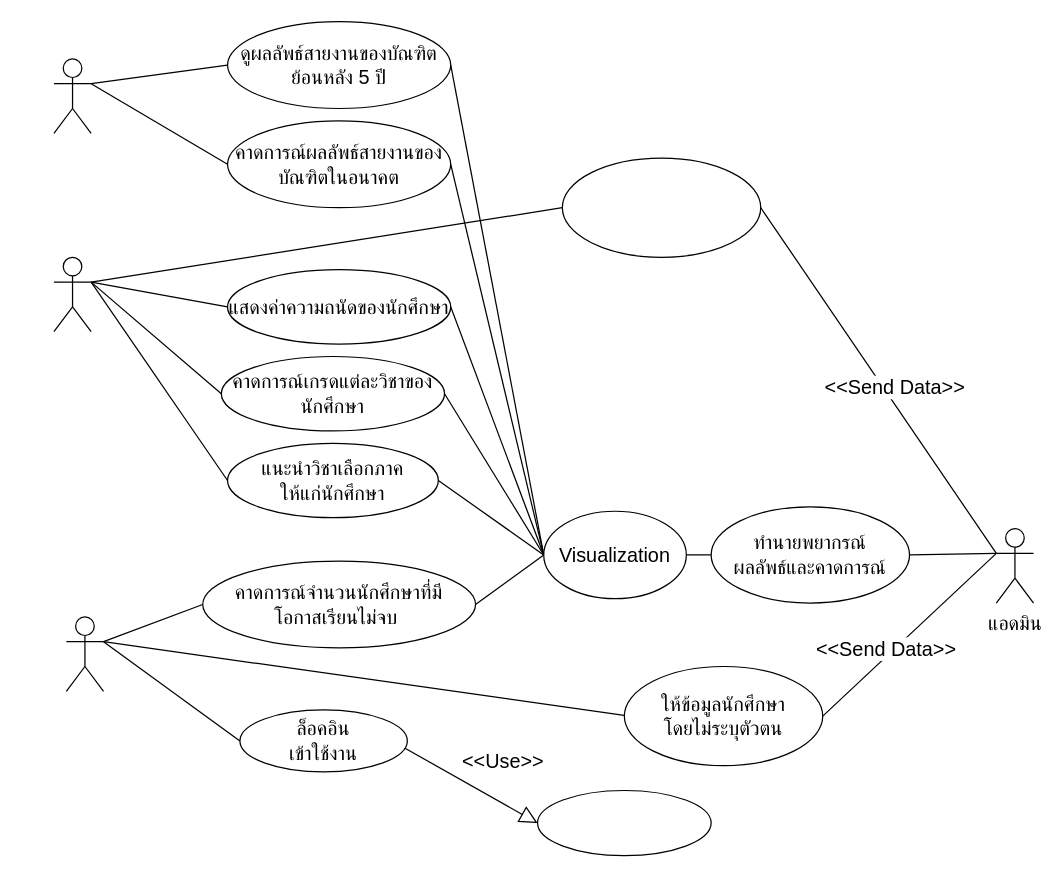
This 1063x878 diagram has some shape labels left out. The shapes that lost their labels are listed below. From the top down, each one's centre as x and y in pixels, then its label:
At pixel 72 95: "บุคคลทั่วไป".
At pixel 661 207: "กรอกฟอร์มเกรดแต่ละวิชาโดยไม่ระบุตัวตน".
At pixel 72 294: "นักศึกษา".
At pixel 84 653: "กรรมการหลักสูตร".
At pixel 623 822: "ล็อคเอ้าท์ ออกจากระบบ".
